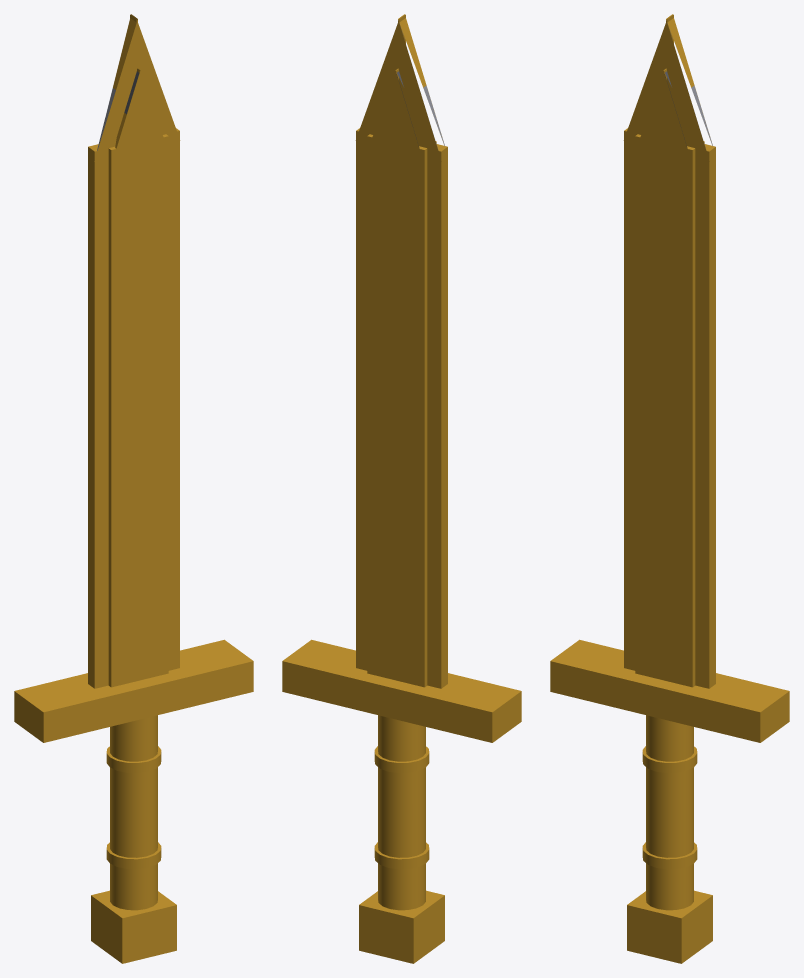
3 views of the same model, side by side, from view 1: azimuth 30°, elevation 25°; view 2: azimuth 150°, elevation 25°; view 3: azimuth 330°, elevation 25° (orthographic).
Visible parts, largest first — view 1: rank-chad-b; view 2: rank-chad-b; view 3: rank-chad-b.
Part boxes in pixels (<box>): rank-chad-b: <box>14,14,253,963</box>; rank-chad-b: <box>282,14,521,963</box>; rank-chad-b: <box>550,14,789,963</box>.
Size of the model in its own units: 0.2024 by 0.8551 by 0.0526.
